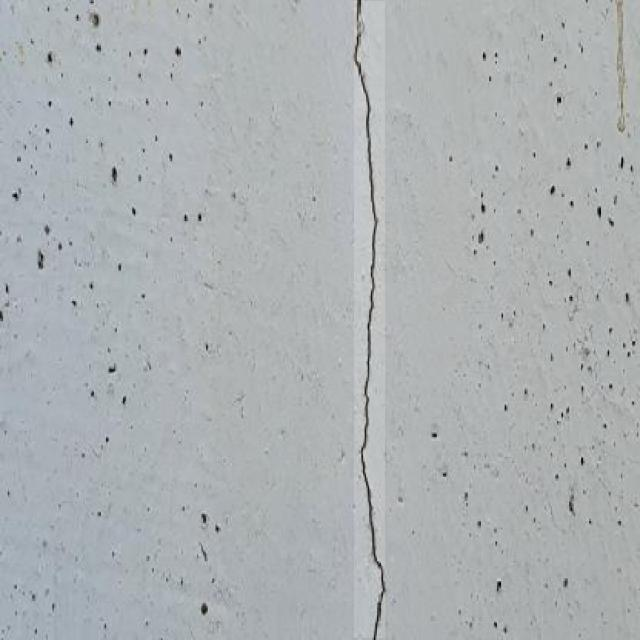vertical crack: (354, 1, 385, 638)
